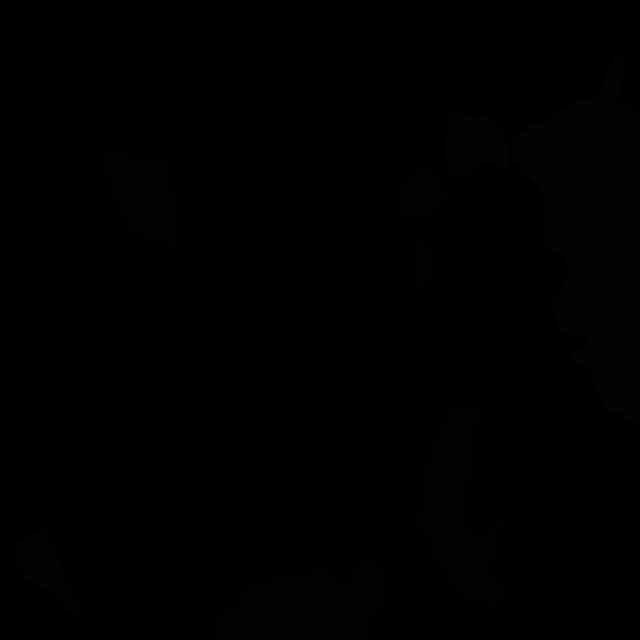cardboard: (415, 401, 506, 609), (208, 559, 386, 640), (102, 144, 182, 252), (398, 164, 448, 225), (412, 238, 438, 300)
rigid_plastic: (39, 403, 166, 628)
soft_plastic: (512, 57, 640, 425), (16, 529, 79, 615), (445, 112, 509, 177)
